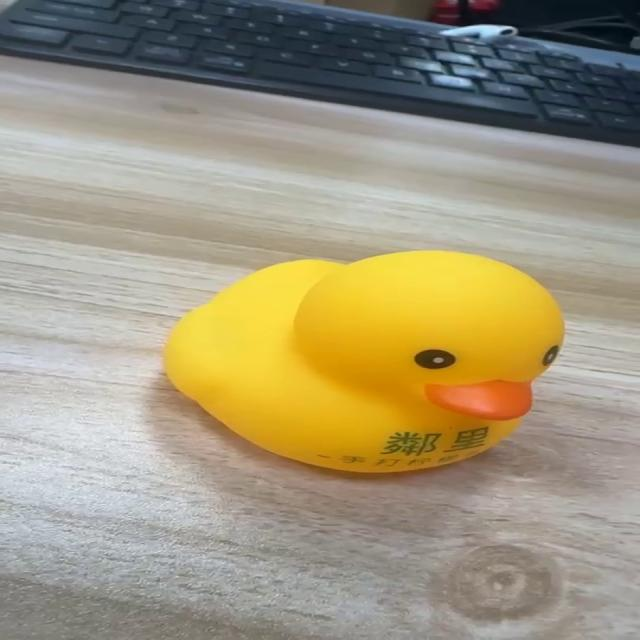yellow_duck: (160, 247, 565, 474)
